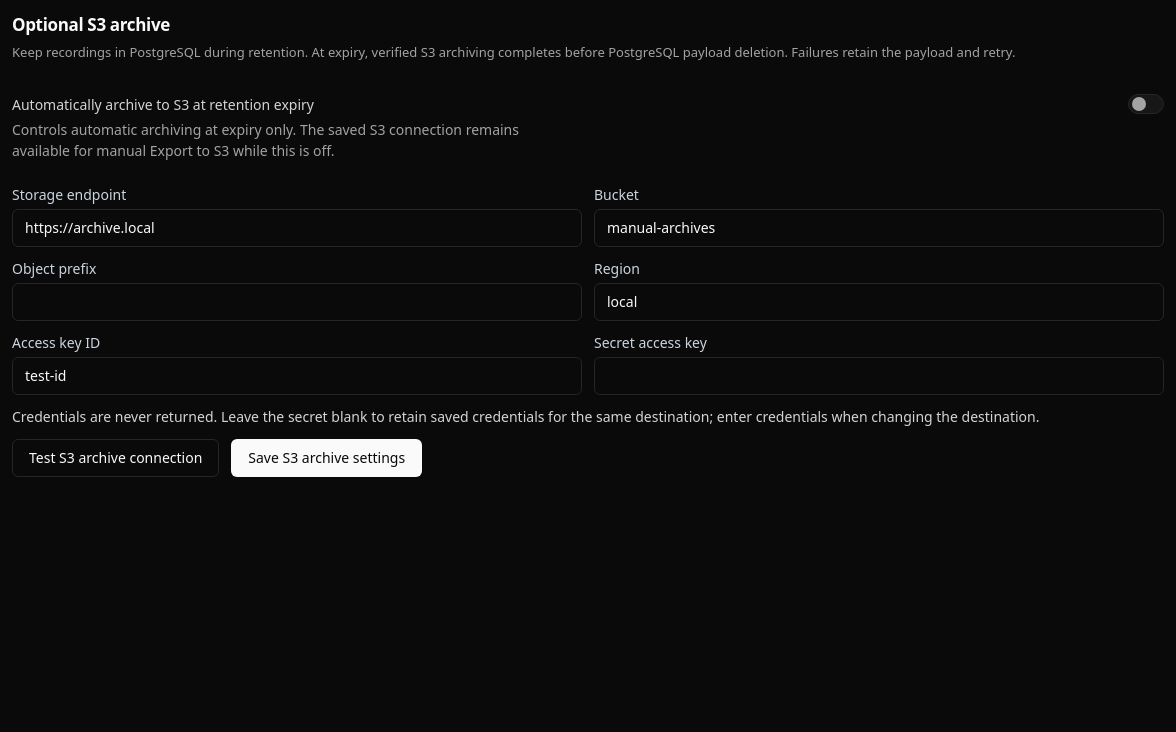
Test: retains a configured S3 connection for manual exports with automatic archiving off
Click the button "Test S3 archive connection": (116, 458) [12,439,219,477]
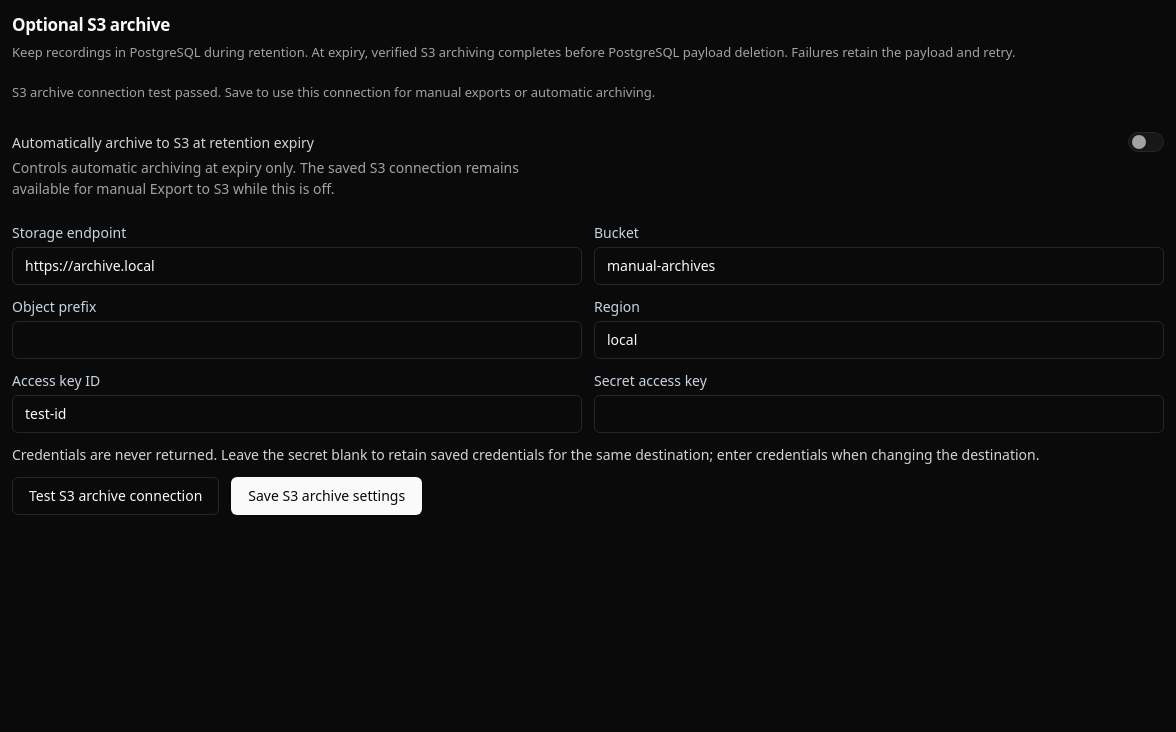
Check: the text "saved S3 connection remains available for manual Export to S3 while this is off" is shown, box [12,158,519,198]
Check: the text "S3 archive connection test passed" is shown, box [12,83,655,101]
